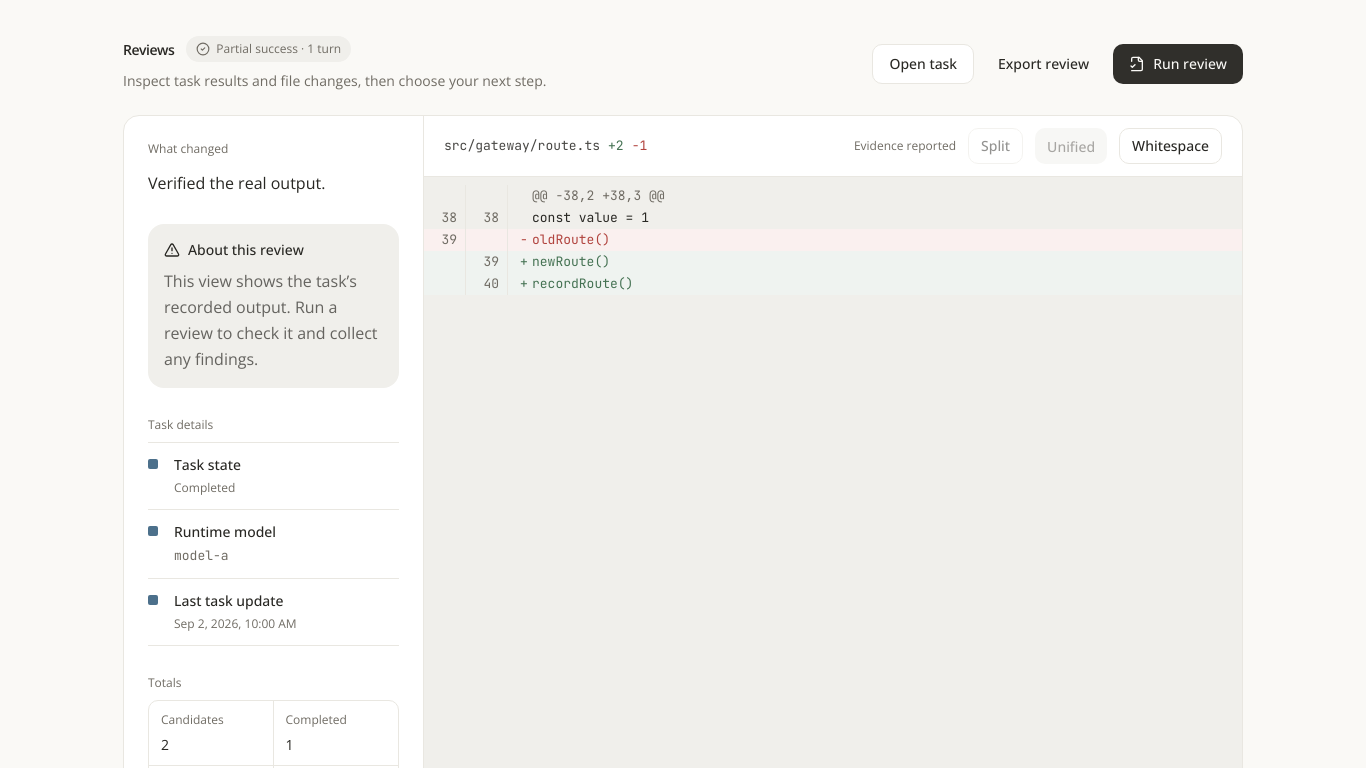
OperationsView › renders reported diffs and severity findings without synthesizing evidence
Expected: the text "oldRoute()" is shown, x1=532 y1=231 x2=610 y2=248
Expected: the text "newRoute()" is shown, x1=532 y1=253 x2=610 y2=270
Step 1. Click the button "Whitespace" → (1171,146), box x1=1119 y1=128 x2=1222 y2=164
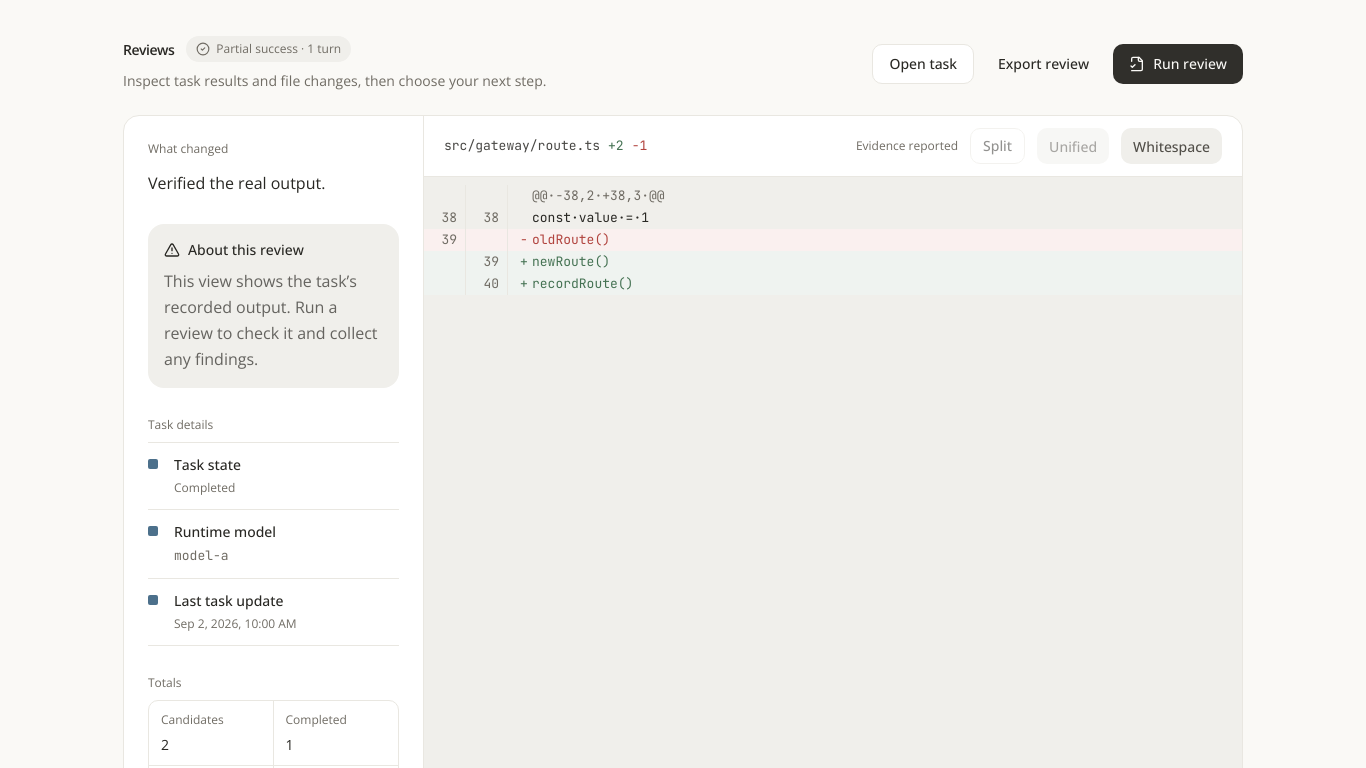
Expected: the text "const·value·=·1" is shown, x1=532 y1=209 x2=649 y2=226
